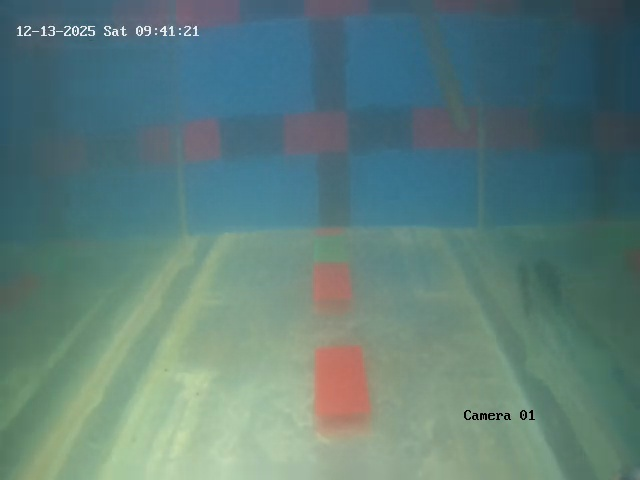fish: (512, 249, 540, 321)
